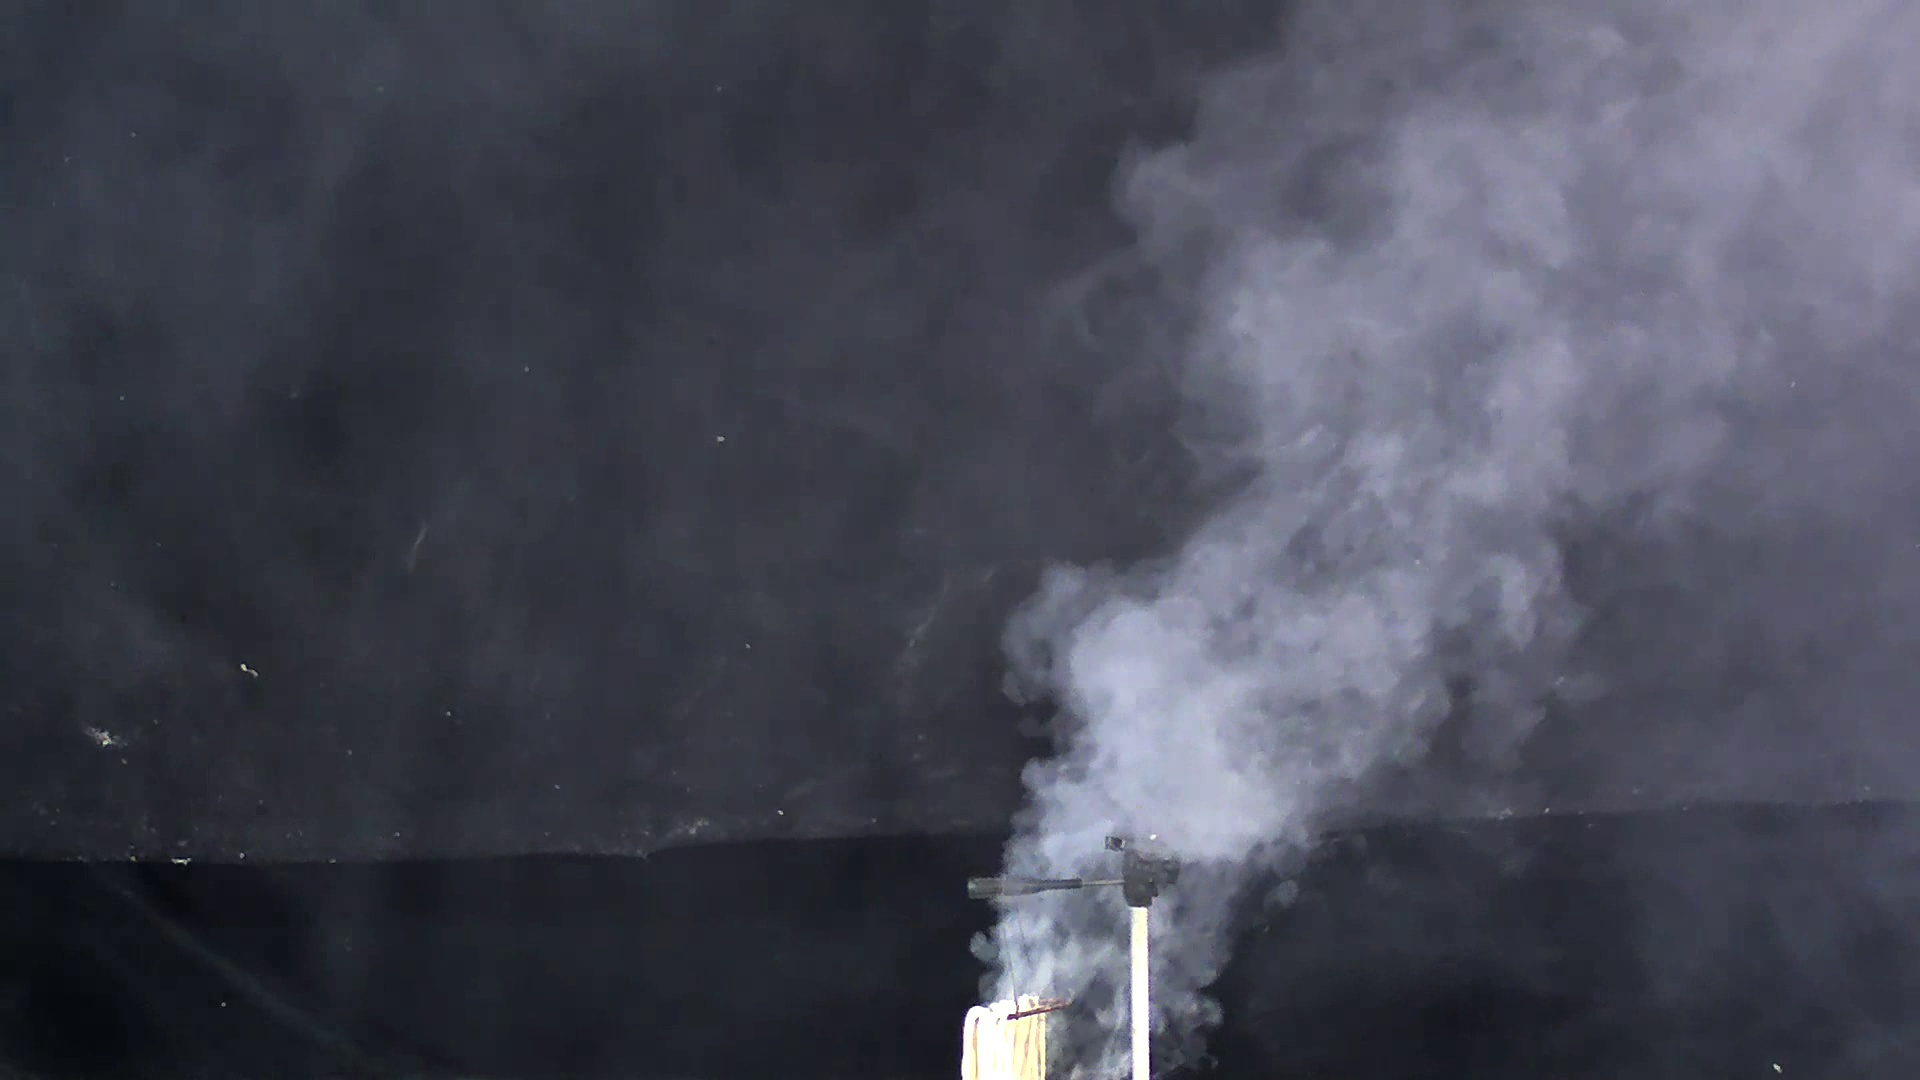smoke: (948, 103, 1631, 1013)
